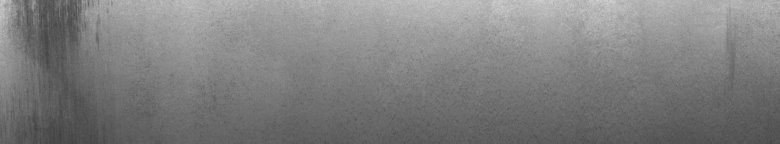ka: (4, 4, 101, 135)
